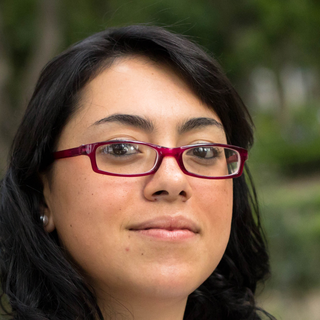eye: (100, 138, 146, 163), (185, 140, 226, 165)
